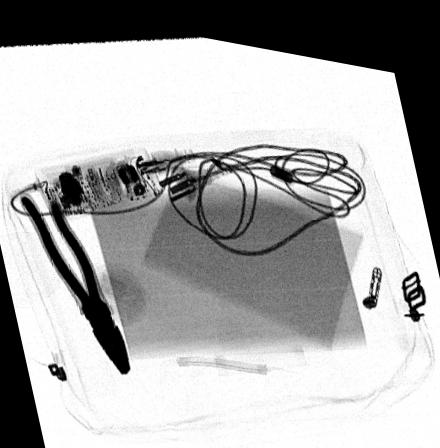Pliers: (19, 191, 131, 369)
